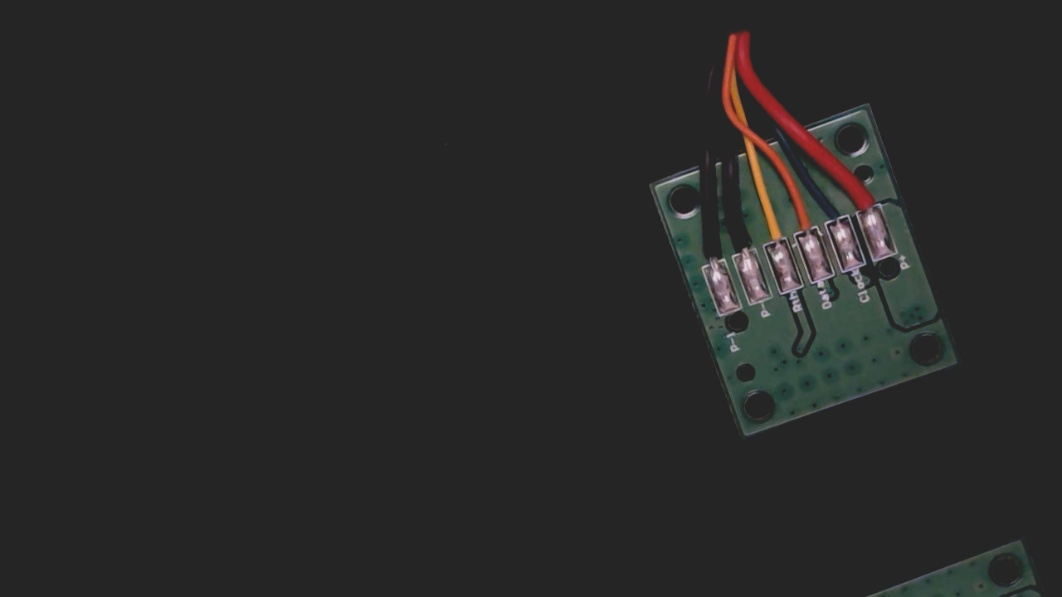Black: (722, 210, 761, 267)
Black1: (689, 224, 729, 278)
Green: (812, 184, 853, 235)
Orange: (782, 193, 821, 246)
Red: (843, 169, 886, 223)
Yellow: (749, 198, 792, 256)
